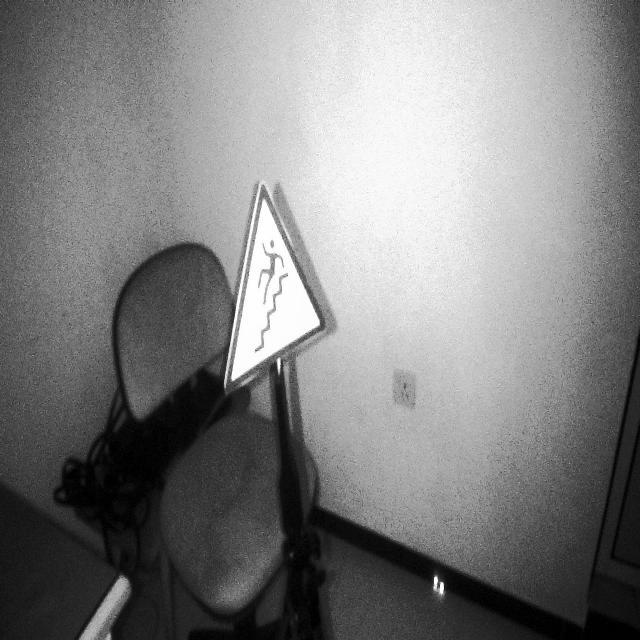Sign: (222, 180, 327, 400)
